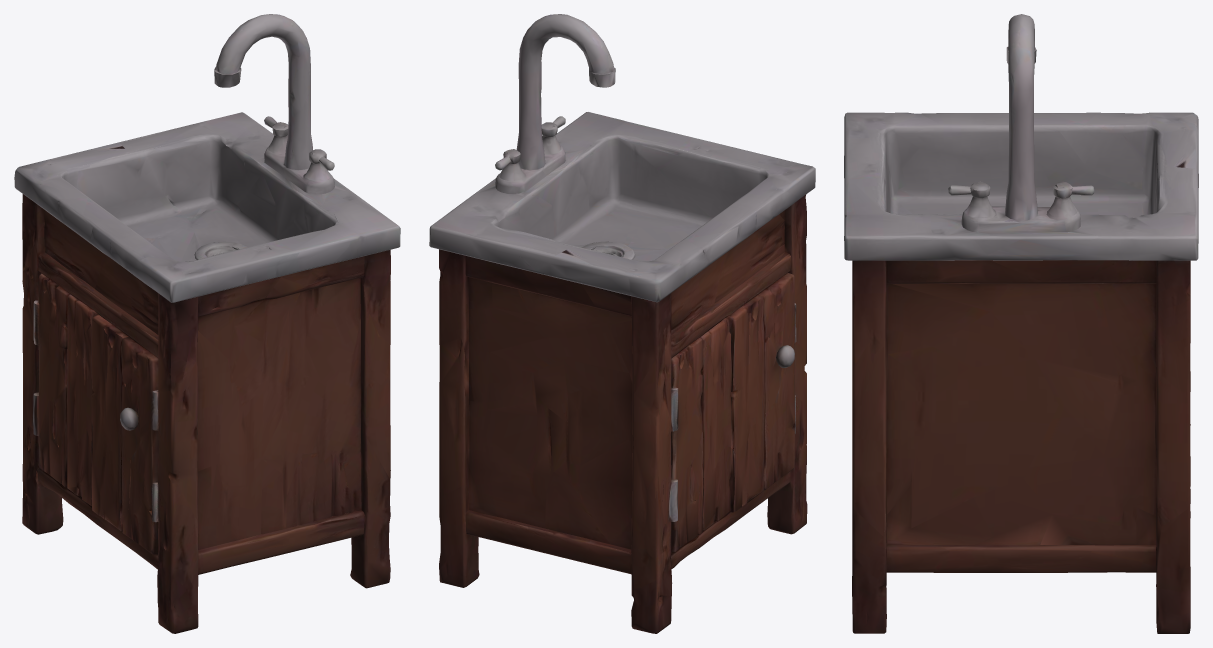
File: sink_tap_kuhonnaya_idle.glb
The picture shows the model from 3 angles, left to right: view 1: azimuth 30°, elevation 25°; view 2: azimuth 150°, elevation 25°; view 3: azimuth 270°, elevation 25°; orthographic projection. The views are drawn at different scales.
Parts seen in each view (by area): view 1: tripo_node_d83e2766-3451-4667-86b1-7906098919da; view 2: tripo_node_d83e2766-3451-4667-86b1-7906098919da; view 3: tripo_node_d83e2766-3451-4667-86b1-7906098919da.
Boxes of the visible parts, x1=… form: tripo_node_d83e2766-3451-4667-86b1-7906098919da: x1=14, y1=14, x2=400, y2=633; tripo_node_d83e2766-3451-4667-86b1-7906098919da: x1=429, y1=14, x2=815, y2=633; tripo_node_d83e2766-3451-4667-86b1-7906098919da: x1=844, y1=14, x2=1198, y2=633.
Size of the model in its own units: 0.4365 by 0.9 by 0.4925.
1 material, 1 textured.
